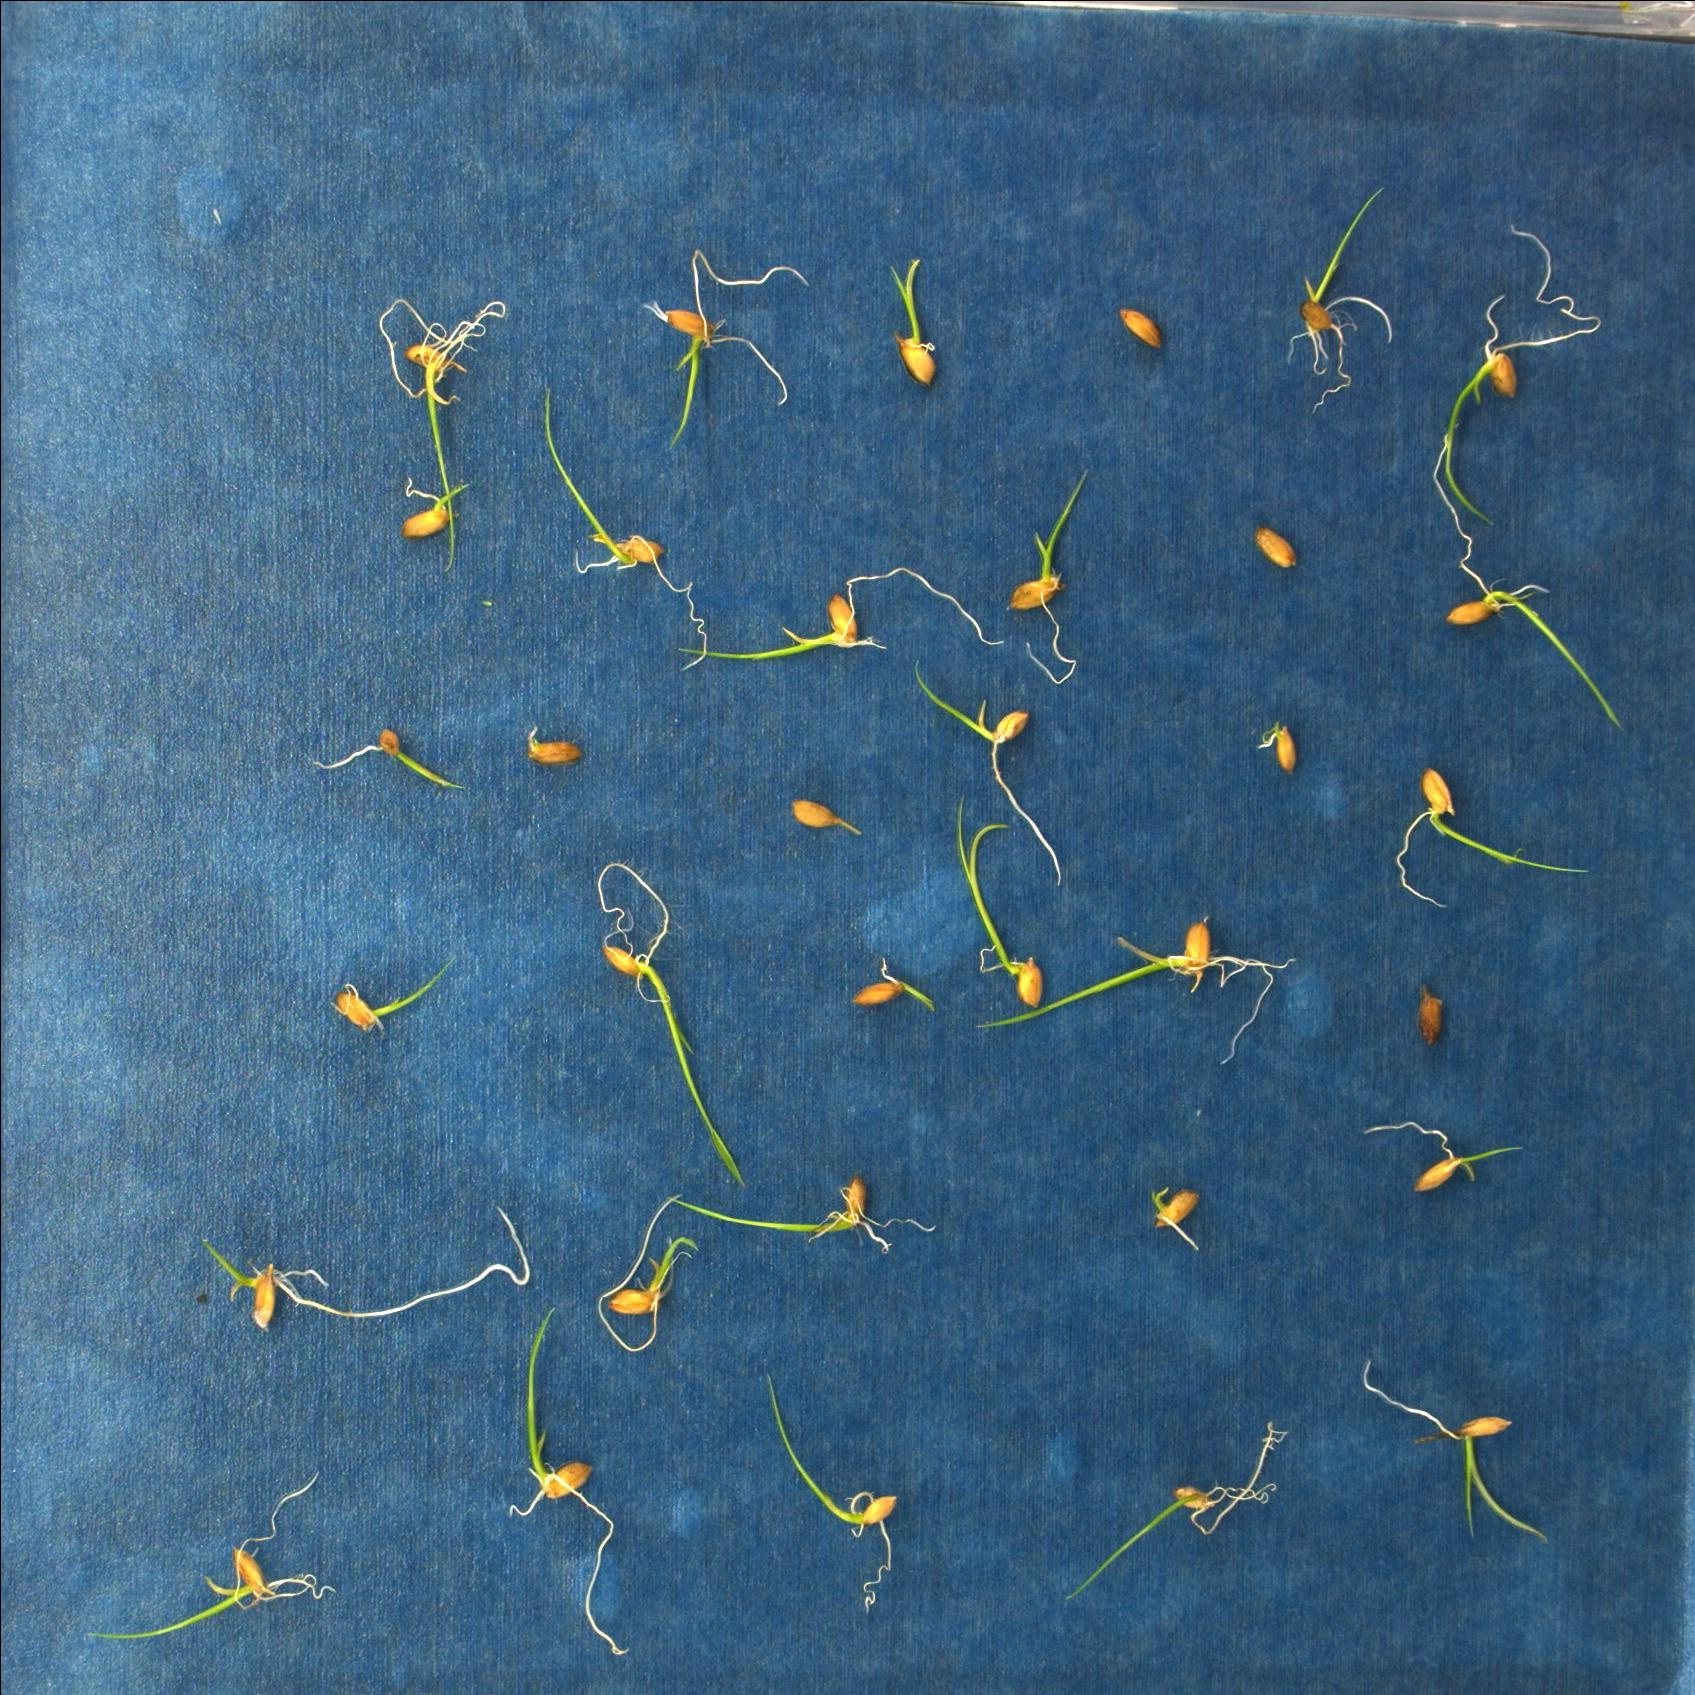not sprout: (778, 785, 871, 851), (1412, 979, 1465, 1059), (1250, 705, 1309, 771), (518, 720, 587, 775), (1108, 298, 1167, 352), (1246, 522, 1304, 570)
sprout: (1417, 442, 1622, 744), (584, 851, 767, 1181), (531, 380, 726, 672), (497, 1312, 649, 1676), (1049, 1400, 1291, 1617), (986, 905, 1293, 1069), (1442, 230, 1617, 515), (196, 1203, 532, 1344), (92, 1462, 354, 1642), (581, 214, 806, 424), (762, 1367, 900, 1661), (906, 650, 1076, 882), (1357, 1349, 1541, 1554), (680, 560, 1021, 671), (1274, 183, 1417, 413), (1406, 761, 1611, 920), (376, 289, 490, 570), (678, 1166, 941, 1265), (577, 1189, 730, 1349), (947, 807, 1066, 1004), (1003, 487, 1107, 691), (1360, 1118, 1555, 1197), (310, 955, 467, 1048), (829, 934, 947, 1031), (315, 719, 456, 795), (875, 258, 951, 394), (386, 478, 473, 553), (1139, 1180, 1212, 1257)
